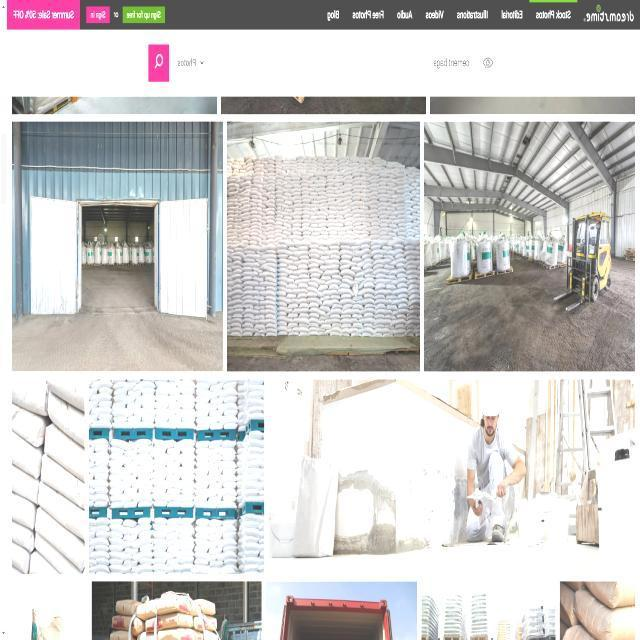gunny_bag: (34, 508, 83, 572), (37, 481, 83, 540), (39, 454, 83, 509), (43, 424, 84, 482), (33, 532, 81, 574), (11, 404, 49, 447), (11, 432, 43, 479), (11, 465, 39, 505), (155, 596, 190, 615), (157, 613, 193, 630), (179, 476, 193, 489), (137, 459, 150, 467), (145, 620, 150, 632)
